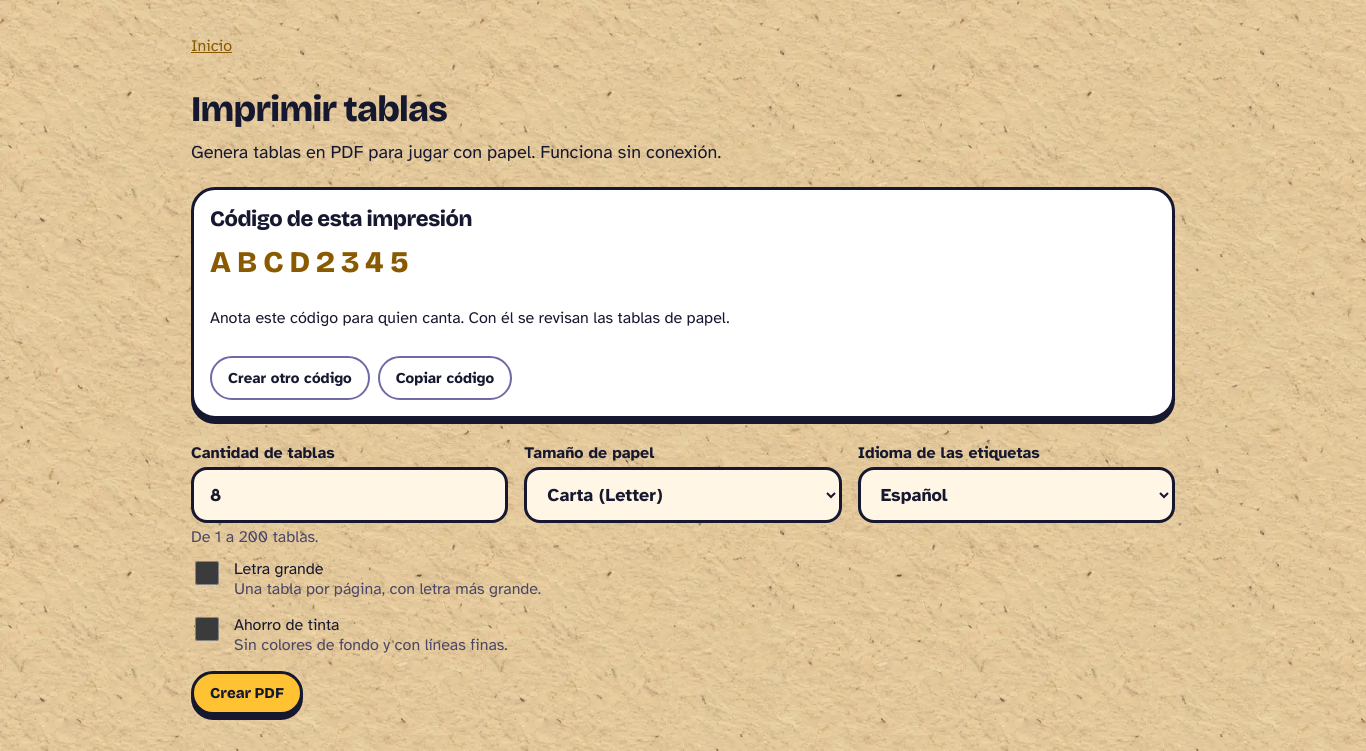
Scenario: PrintPage › disables new seed while busy and can cancel
Click the button "Crear PDF". click: (247, 693)
box: [191,671,303,715]
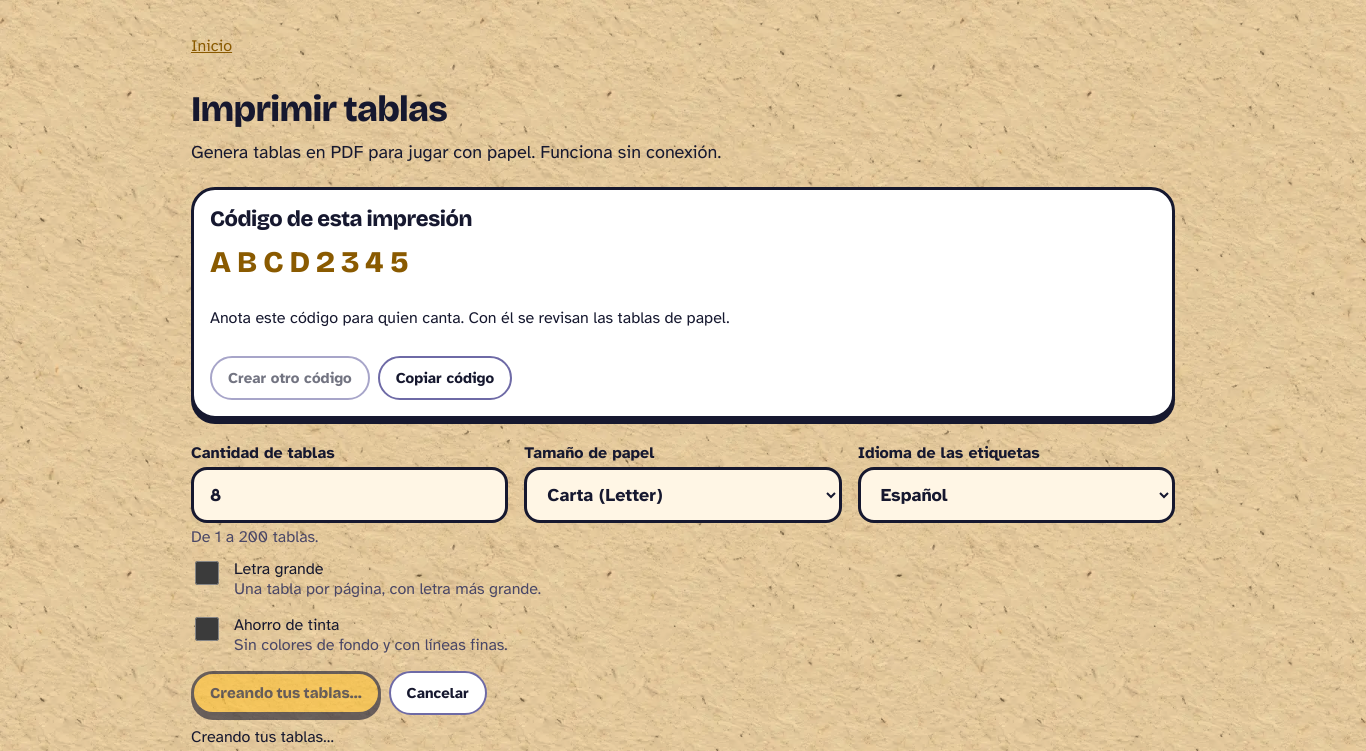
Check: the button "Crear otro código" is disabled, box [210,356,370,400]
Click the button "Cancelar". click: (438, 693)
box: [389,671,487,715]
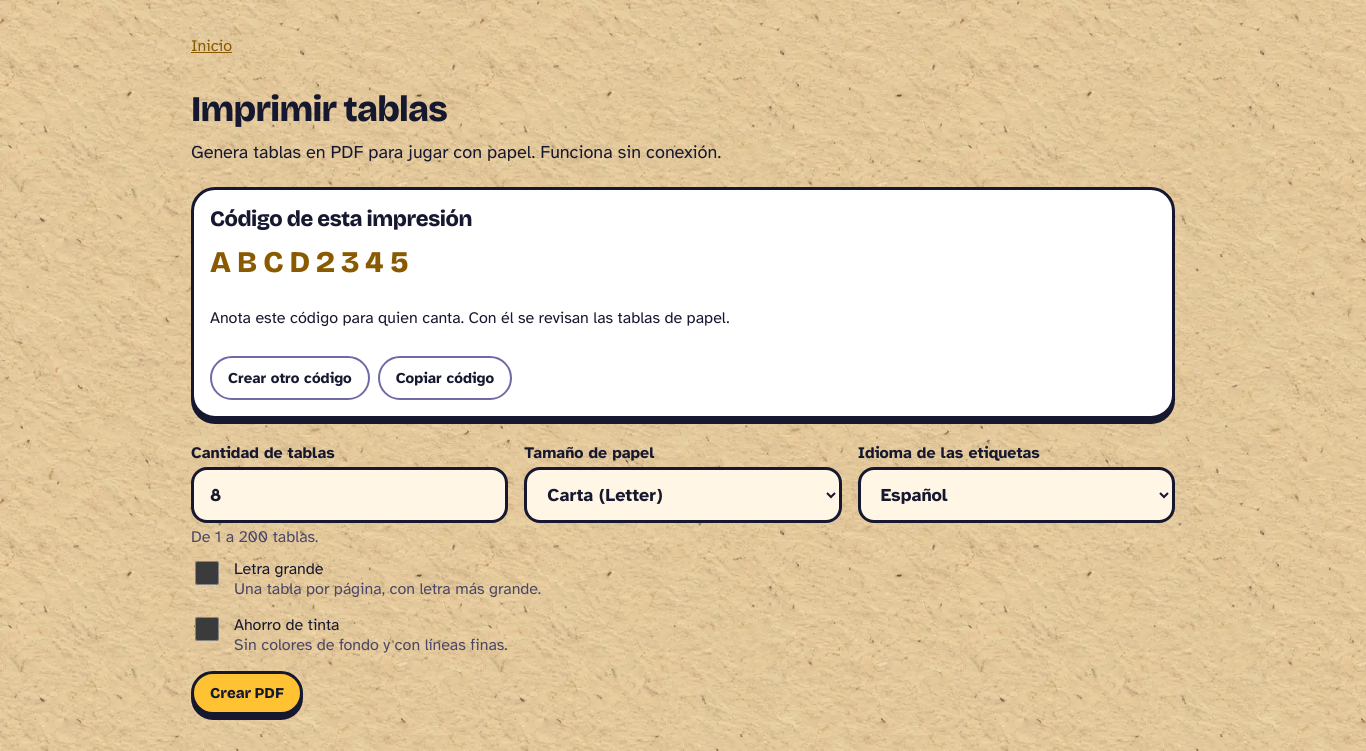
Check: the button "Cancelar" is gone
Check: the message "Creando tus tablas…" is gone
